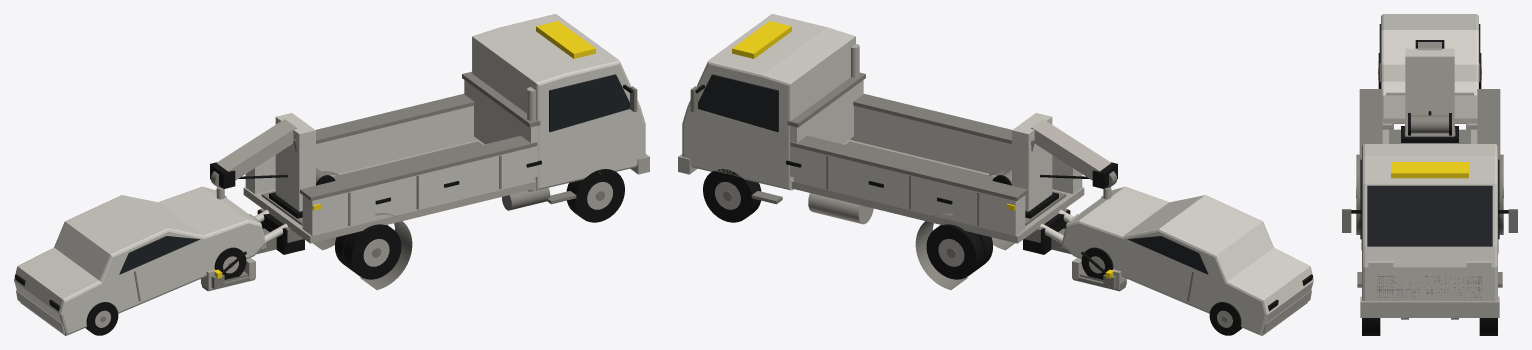
File: rollout-wheel-lift.glb
3 renders of one model, left to right at view 1: azimuth 30°, elevation 25°; view 2: azimuth 150°, elevation 25°; view 3: azimuth 270°, elevation 25°, orthographic. The views are drawn at different scales.
Visible parts, largest first — view 1: car_body, cab_shell, compartment_l, compartment_r, compartment_cap_l, cab_side_glass, body_floor, mast_column, headboard, compartment_cap_r, boom_arm, wheel_rear_l_1_tire (+11 smaller); view 2: car_body, cab_shell, compartment_r, compartment_l, compartment_cap_r, cab_side_glass, body_floor, mast_column, headboard, compartment_cap_l, boom_arm, wheel_rear_r_1_tire (+11 smaller); view 3: cab_shell, windshield, car_body, mast_column, bumper, compartment_cap_l, compartment_cap_r, beacon_bar, winch_drum, mast_base, body_deck_plate, wheel_front_l_tire (+12 smaller).
Boxes of the visible parts, box(x1,y1,x2,y2) form: car_body: box(14, 186, 265, 335); cab_shell: box(472, 14, 645, 190); compartment_l: box(302, 147, 534, 235); compartment_r: box(245, 105, 477, 193); compartment_cap_l: box(300, 135, 537, 200); cab_side_glass: box(549, 74, 629, 132); body_floor: box(243, 139, 536, 243); mast_column: box(275, 113, 315, 211); headboard: box(464, 80, 537, 177); compartment_cap_r: box(316, 94, 474, 143); boom_arm: box(216, 119, 296, 180); wheel_rear_l_1_tire: box(343, 224, 401, 279); car_body: box(1062, 186, 1313, 335); cab_shell: box(682, 14, 855, 190); compartment_r: box(793, 147, 1025, 235); compartment_l: box(850, 105, 1082, 193); compartment_cap_r: box(790, 135, 1027, 200); cab_side_glass: box(698, 74, 778, 132); body_floor: box(791, 139, 1084, 243); mast_column: box(1012, 113, 1052, 211); headboard: box(790, 80, 863, 177); compartment_cap_l: box(853, 94, 1011, 143); boom_arm: box(1031, 119, 1111, 180); wheel_rear_r_1_tire: box(926, 224, 984, 279); cab_shell: box(1362, 144, 1497, 301); windshield: box(1367, 185, 1492, 246); car_body: box(1381, 14, 1478, 118); mast_column: box(1405, 48, 1454, 136); bumper: box(1360, 296, 1499, 317); compartment_cap_l: box(1359, 89, 1382, 205); compartment_cap_r: box(1477, 89, 1500, 205); beacon_bar: box(1391, 162, 1468, 178); winch_drum: box(1411, 115, 1448, 133); mast_base: box(1401, 126, 1458, 142); body_deck_plate: box(1389, 129, 1470, 143); wheel_front_l_tire: box(1362, 318, 1380, 335).
Size of the model in its own units: 12.05 by 3.41 by 3.08.
